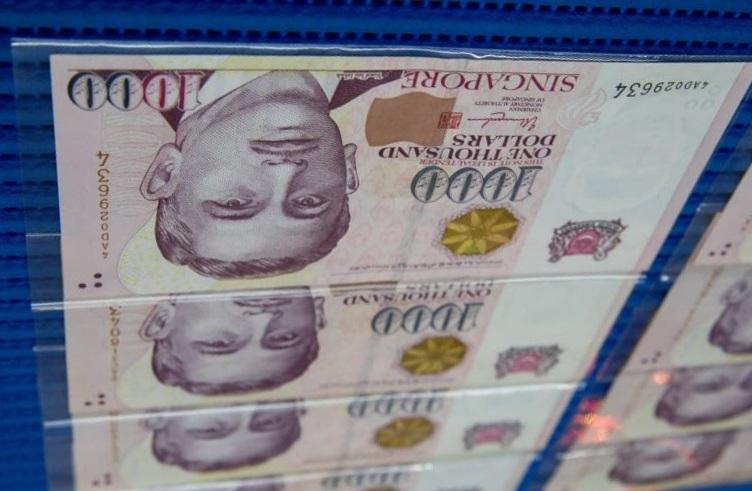1000SingaporeDollar: (56, 62, 707, 287)
